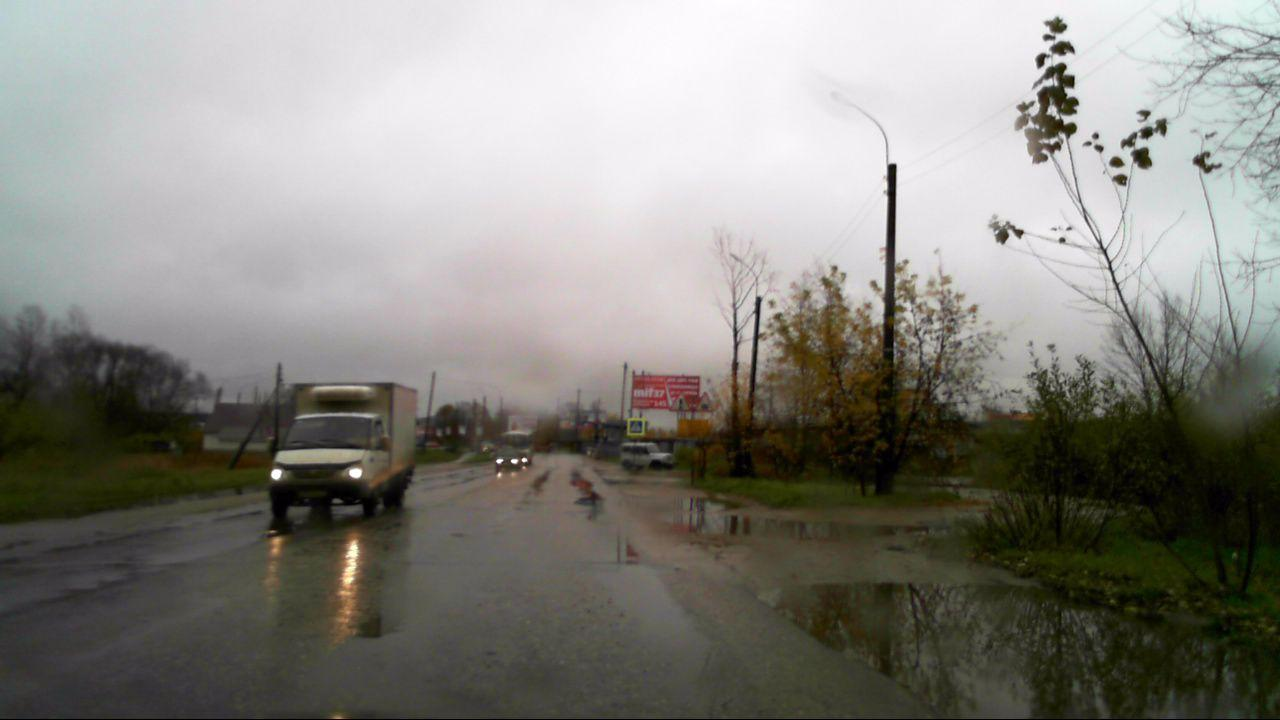road_sign: (628, 418, 644, 435)
